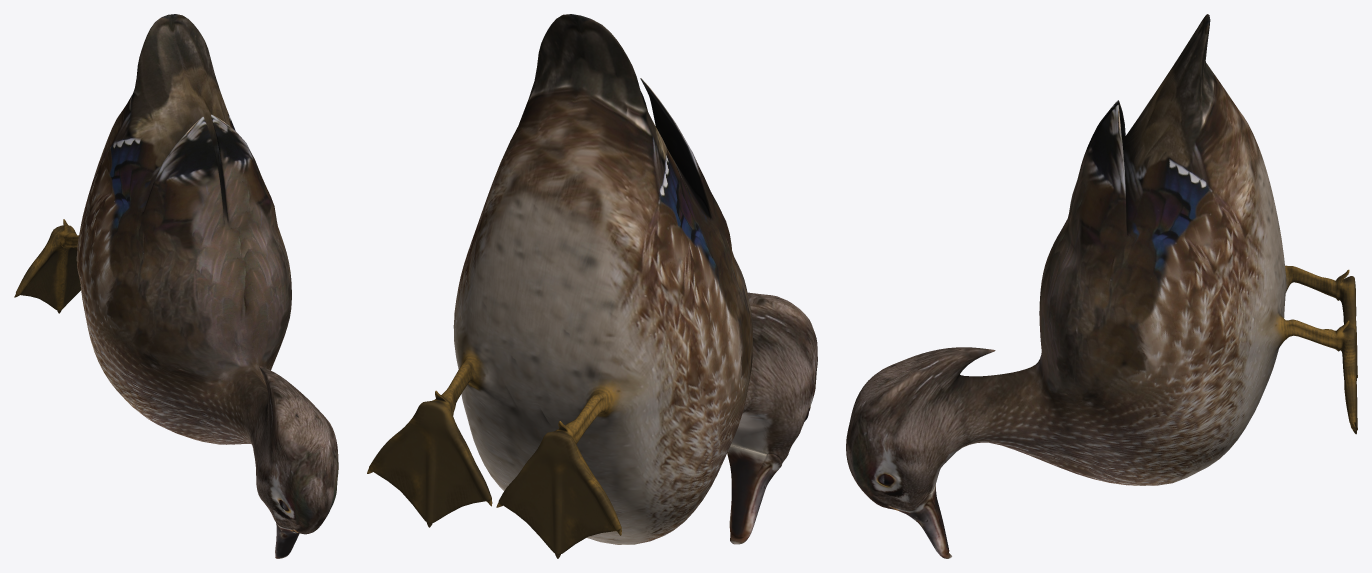
The model's file is 12252_Bird_v1_L2.obj.
3 views of the same model, side by side, from view 1: azimuth 30°, elevation 25°; view 2: azimuth 150°, elevation 25°; view 3: azimuth 270°, elevation 25° (orthographic). The views are drawn at different scales.
Parts seen in each view (by area): view 1: 12252_Bird_v1; view 2: 12252_Bird_v1; view 3: 12252_Bird_v1.
Boxes of the visible parts, x1,y1,x2,y2 form: 12252_Bird_v1: (14,14,338,558); 12252_Bird_v1: (367,14,817,558); 12252_Bird_v1: (846,14,1357,558).
Size of the model in its own units: 18.18 by 43.81 by 37.69.
1 material, 1 textured.
